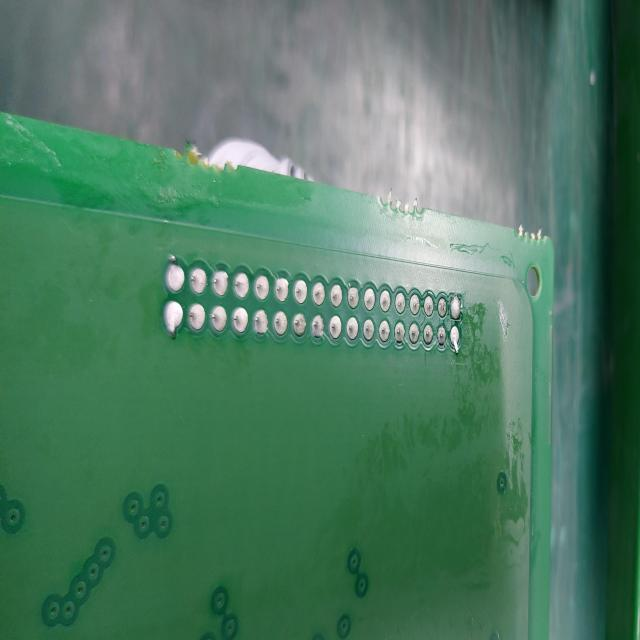redundant: (450, 296, 462, 322)
